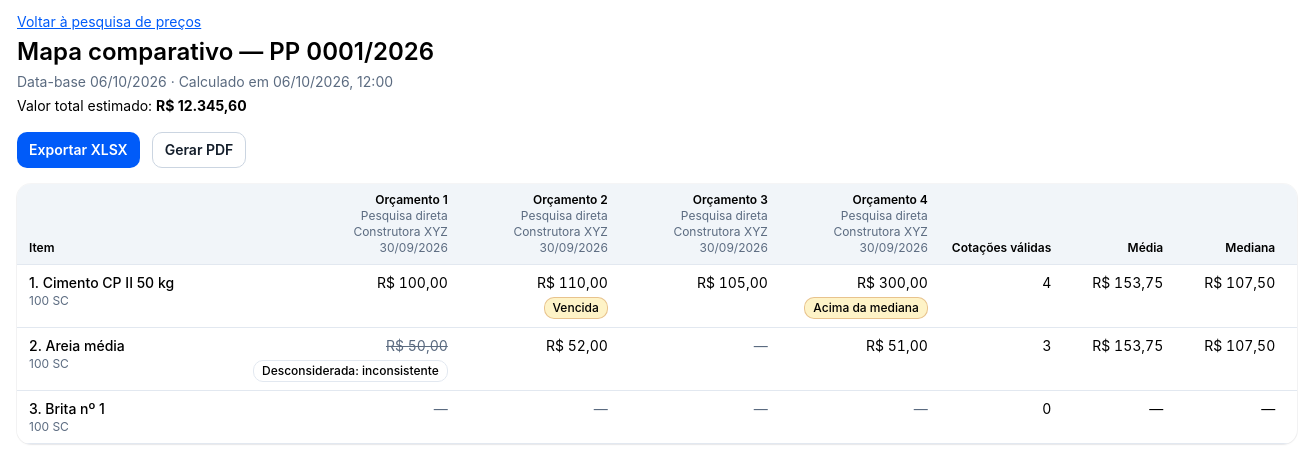
Test: SCR-010 — Mapa comparativo (US-031) › [Falha de integração] PDF que falha mostra "Não foi possível gerar o PDF agora" e o XLSX segue disponível
Click the button "Gerar PDF": x=199, y=150 [152,132,246,168]
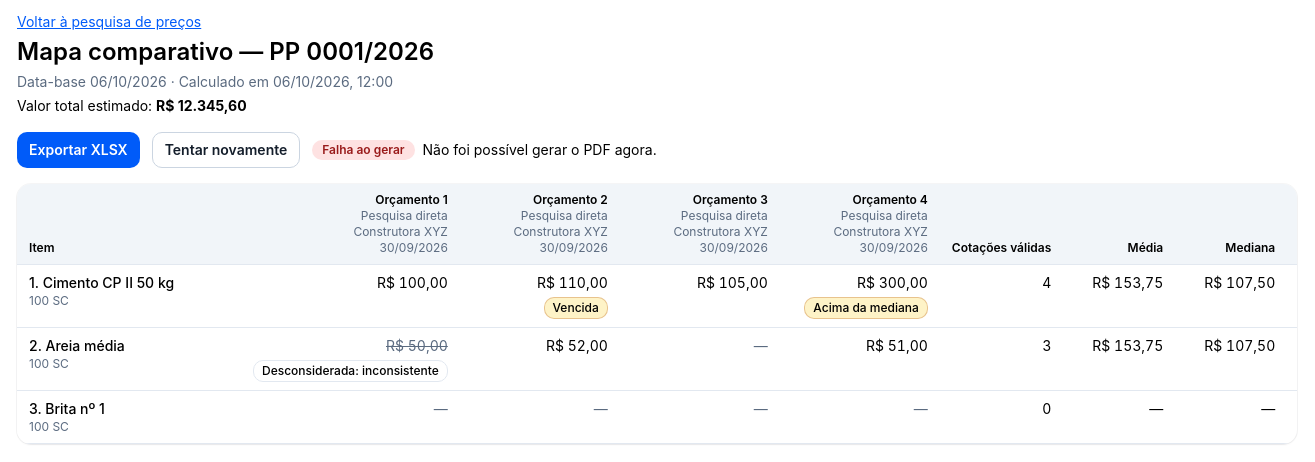
Expected: the button "Exportar XLSX" is enabled, [17,132,140,168]
Expected: the text "Não foi possível gerar o PDF agora." is shown, [422,140,657,160]
Expected: the button "Tentar novamente" is shown, [152,132,300,168]
